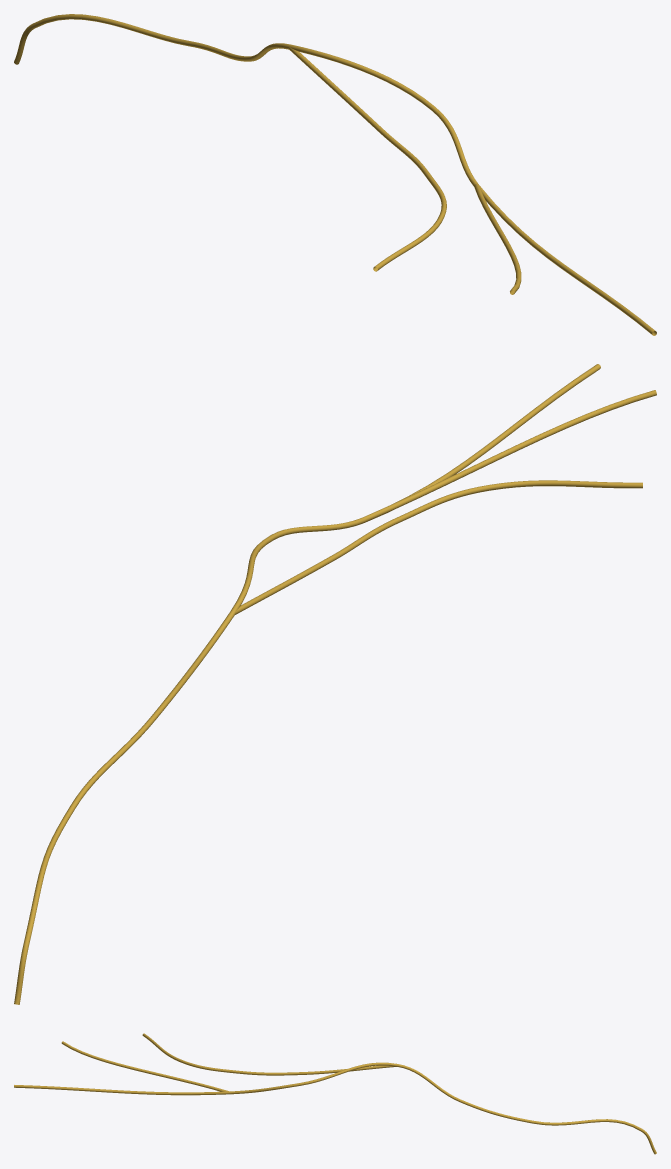
3 renders of one model, top to bottom at view 1: azimuth 30°, elevation 25°; view 2: azimuth 150°, elevation 25°; view 3: azimuth 270°, elevation 25°, orthographic. The views are drawn at different scales.
Visible parts, largest first — view 1: 左侧闭孔神经; view 2: 左侧闭孔神经; view 3: 左侧闭孔神经.
Boxes of the visible parts, x1=… form: 左侧闭孔神经: x1=14, y1=14, x2=656, y2=335; 左侧闭孔神经: x1=14, y1=364, x2=656, y2=1004; 左侧闭孔神经: x1=14, y1=1033, x2=656, y2=1154.
Bounding box in the file's own units: 0.0645 × 0.0571 × 0.3213.
